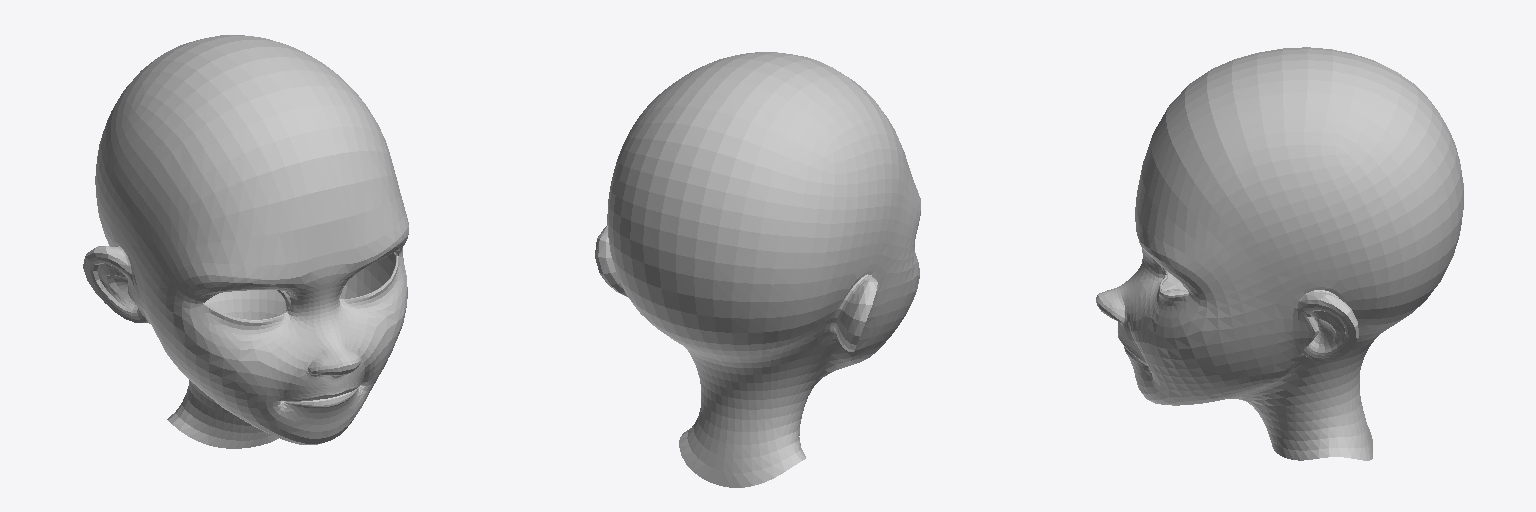
File: pos15.obj
The picture shows the model from 3 angles: view 1: azimuth 30°, elevation 25°; view 2: azimuth 150°, elevation 25°; view 3: azimuth 270°, elevation 25°; orthographic projection.
Parts seen in each view (by area): view 1: Mesh; view 2: Mesh; view 3: Mesh.
Boxes of the visible parts, box(x1,y1,x2,y2) form: Mesh: box(83, 35, 408, 448); Mesh: box(595, 52, 920, 487); Mesh: box(1096, 47, 1463, 460).
Size of the model in its own units: 23.75 by 32.31 by 27.53.